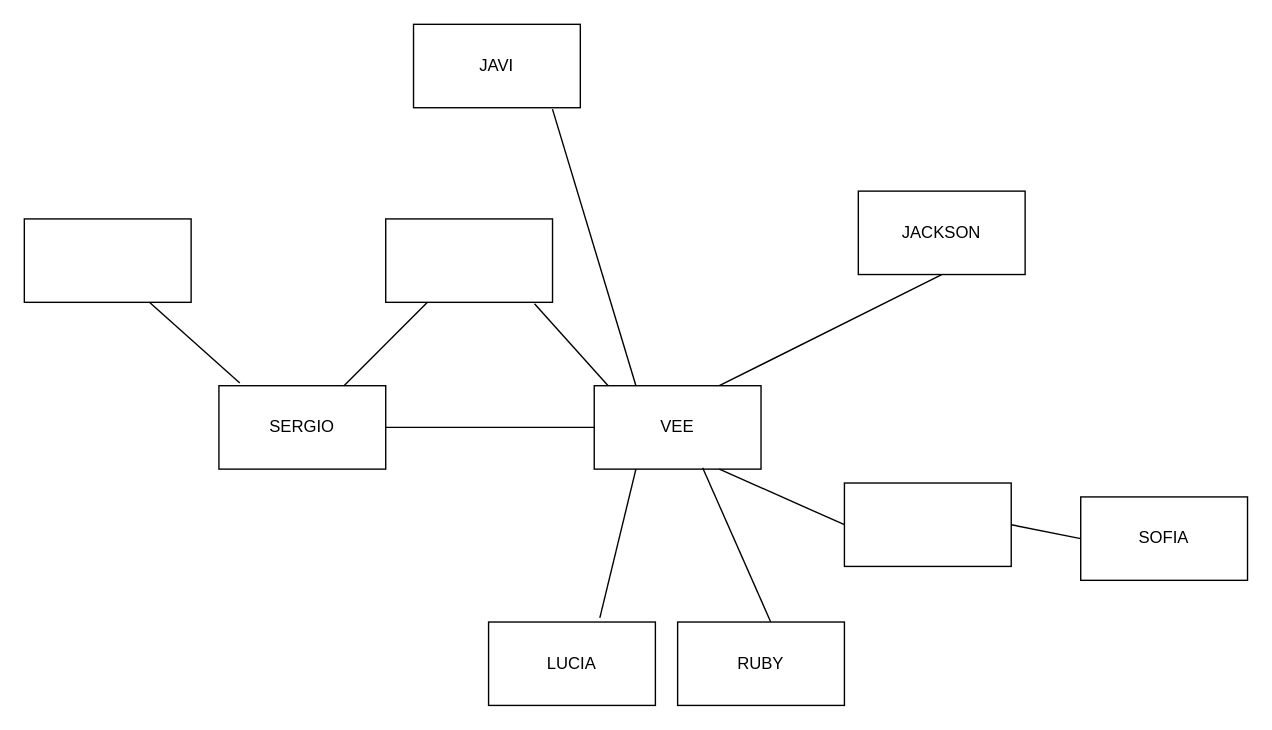
Image size: 1272x730. Some labels were removed from this diagram. Here are the shapes that lost their labels. From the top down, the centre of each, then its label:
pixel 107 260: DANI
pixel 468 260: LUCAS
pixel 927 524: MARTA
